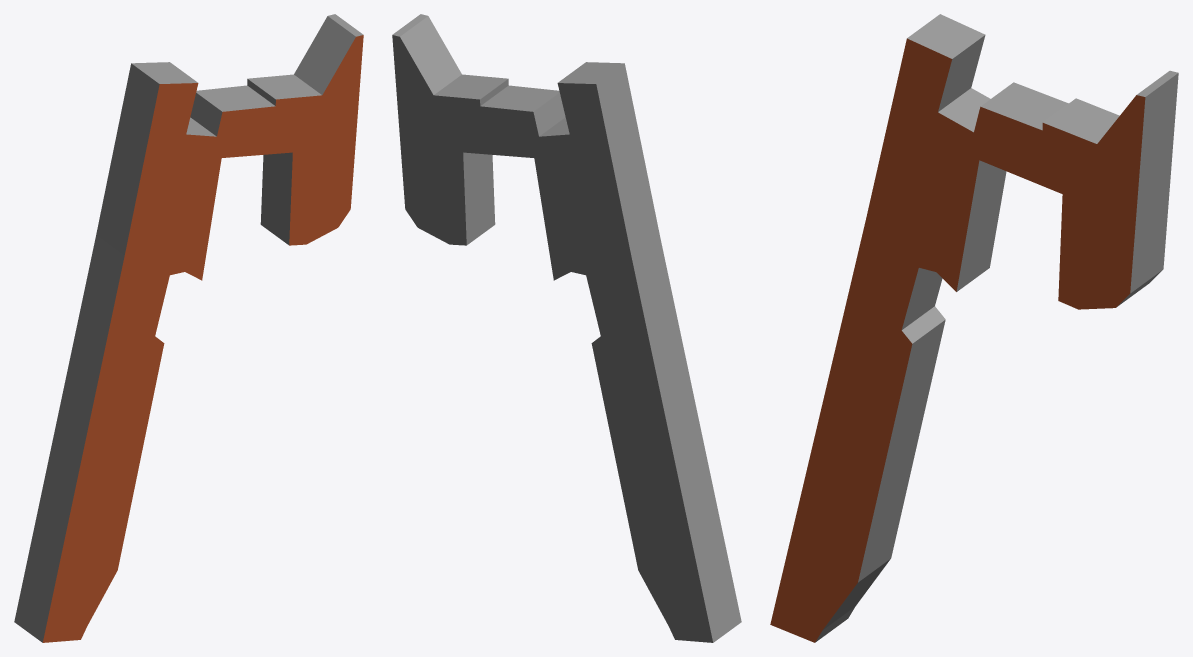
Rendered from construction_5634_assumed_A_Casa_h6m.obj.
The picture shows the model from 3 angles, left to right: view 1: azimuth 30°, elevation 25°; view 2: azimuth 150°, elevation 25°; view 3: azimuth 330°, elevation 25°; orthographic projection. The views are drawn at different scales.
Visible parts, largest first — view 1: construction_5634_assumed_A_Casa; view 2: construction_5634_assumed_A_Casa; view 3: construction_5634_assumed_A_Casa.
Boxes of the visible parts, bbox=[...] form: construction_5634_assumed_A_Casa: bbox=[14, 14, 363, 642]; construction_5634_assumed_A_Casa: bbox=[392, 14, 741, 642]; construction_5634_assumed_A_Casa: bbox=[770, 14, 1178, 642].
Bounding box in the file's own units: 39.02 × 62.33 × 6.
